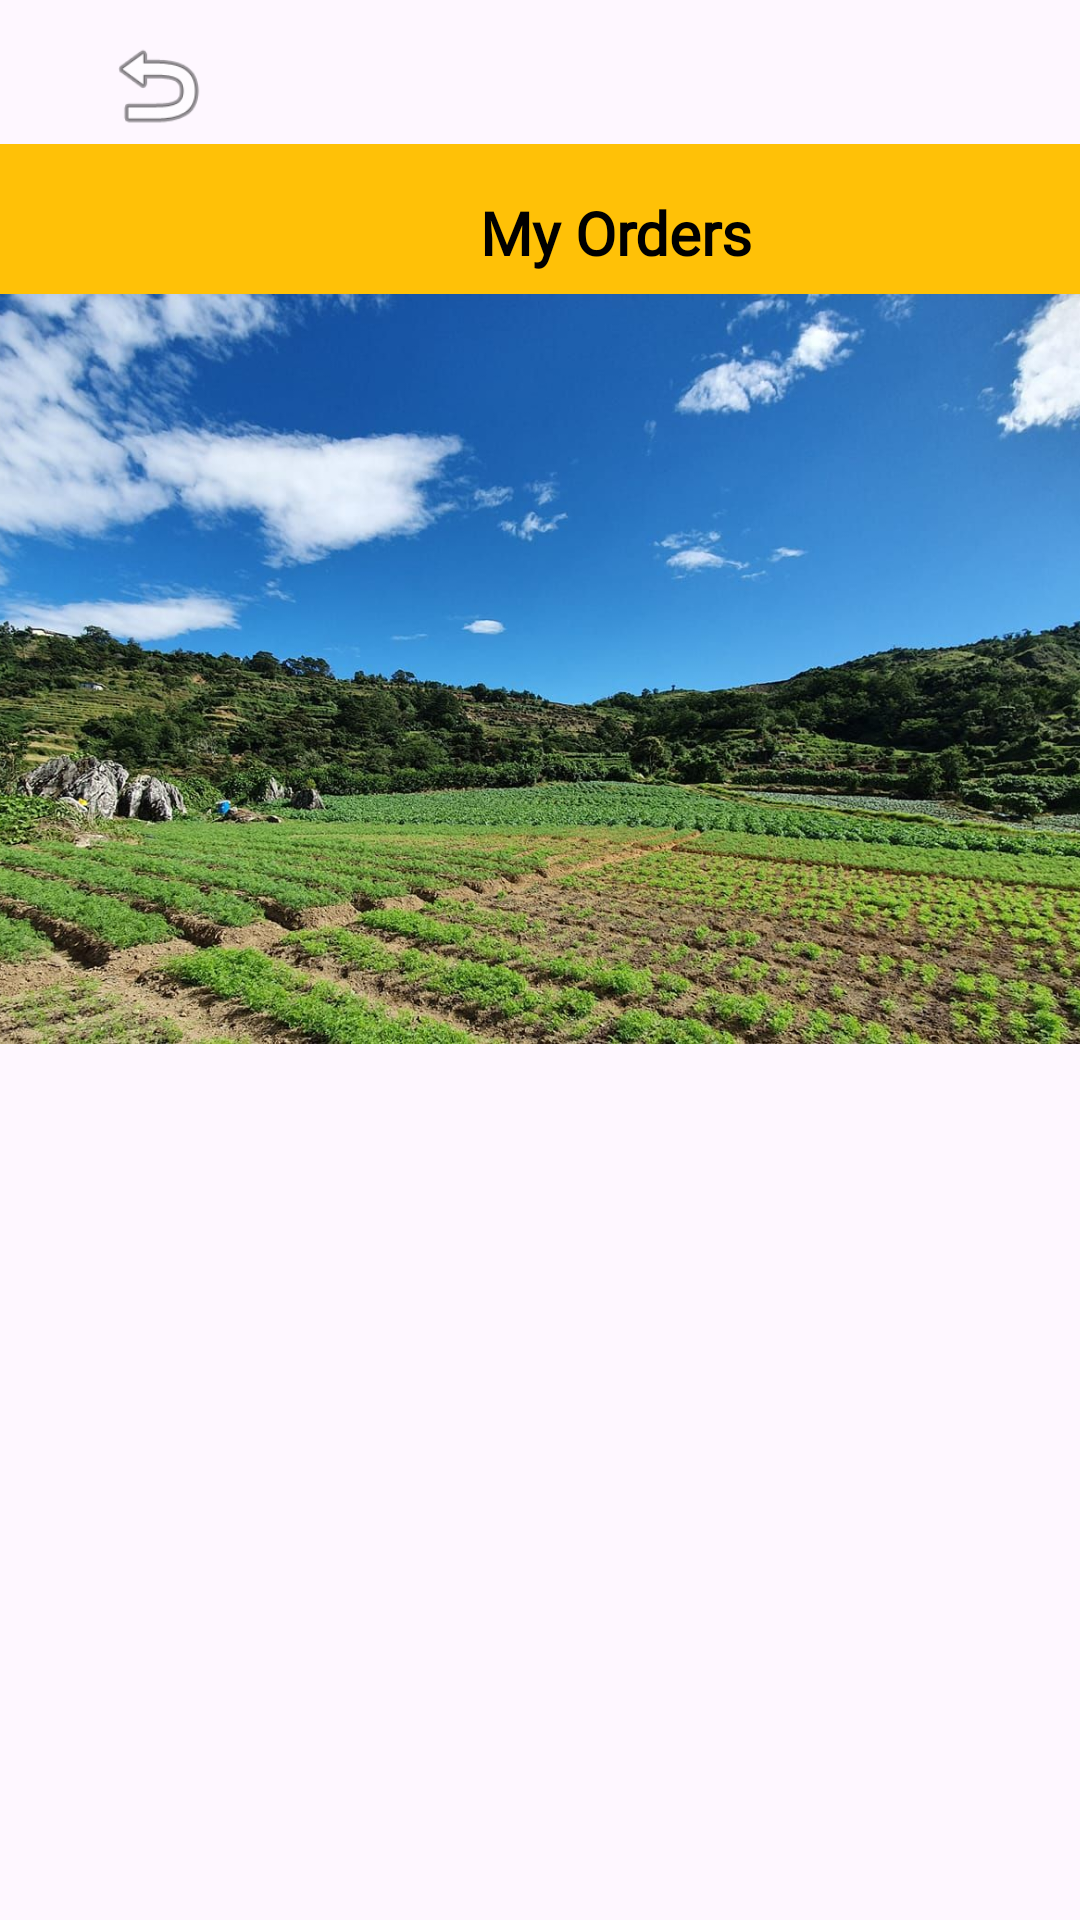

Named icons in this screenshot (1080px x 1920px) and their centers, point (x, y):
revert: point (159, 86)
